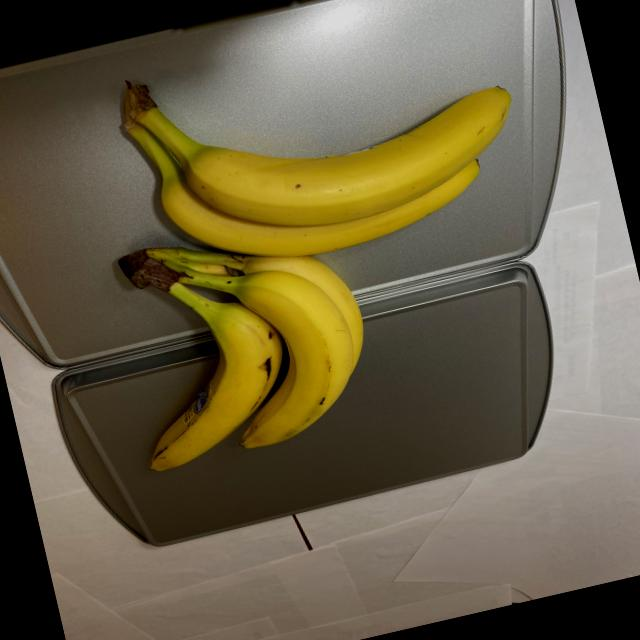banana: (59, 10, 576, 478)
